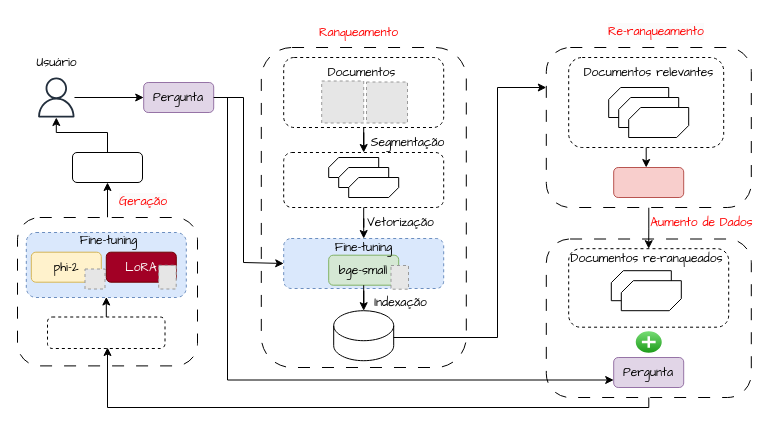
The diagram is 784 pixels wide and 433 high, and some of its shapes have lost their labels. Grey dashed boxes stand in for pictures. The shapes that lost their labels are listed below. From the top down, each one's centre as x and y in pixels, then its label:
At (x=107, y=167): "Resposta".
At (x=648, y=182): "ColBERT".
At (x=105, y=332): "Prompt".
